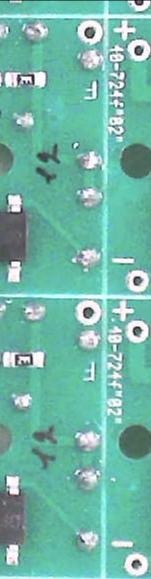chip-resistor: (2, 350, 45, 371), (5, 69, 47, 88)
